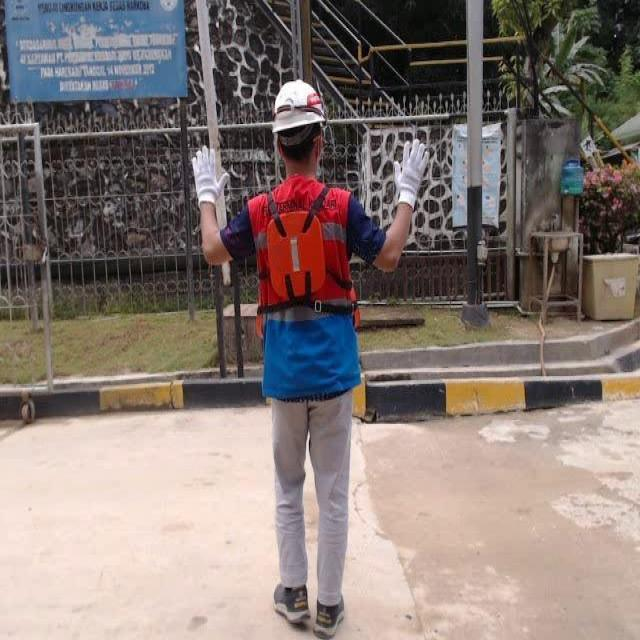hat: (272, 76, 326, 138)
